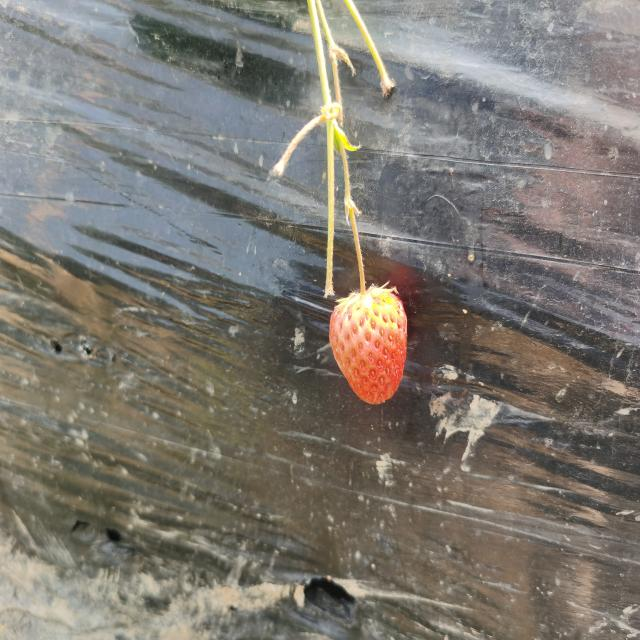stem: (355, 242, 367, 297)
strawberry: (329, 289, 407, 405)
